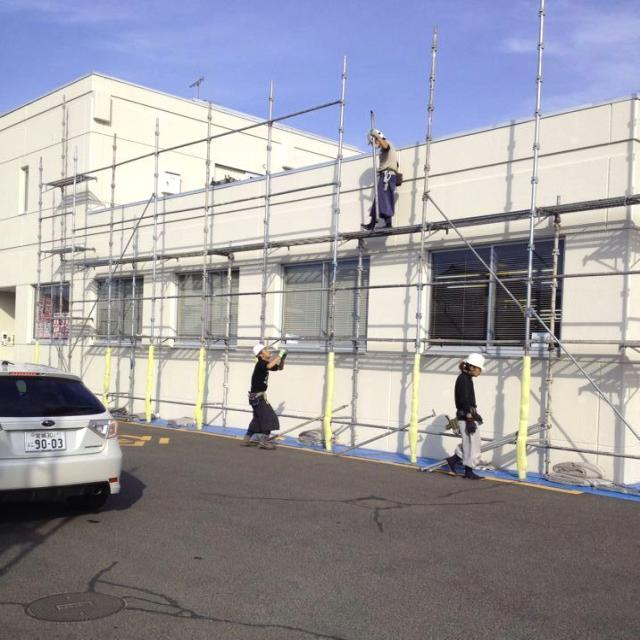head_helmet: (462, 352, 487, 373), (367, 127, 384, 142), (251, 342, 269, 354)
person: (246, 338, 288, 451), (454, 346, 489, 478), (361, 127, 402, 226)
